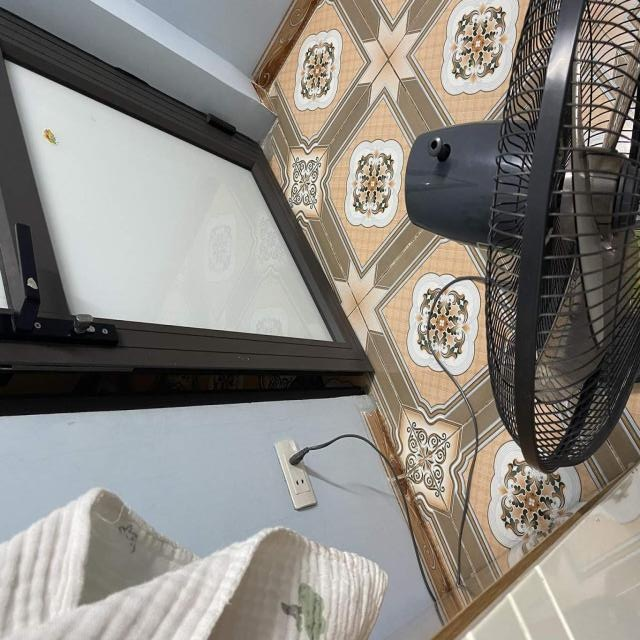outlet: (274, 440, 317, 512)
